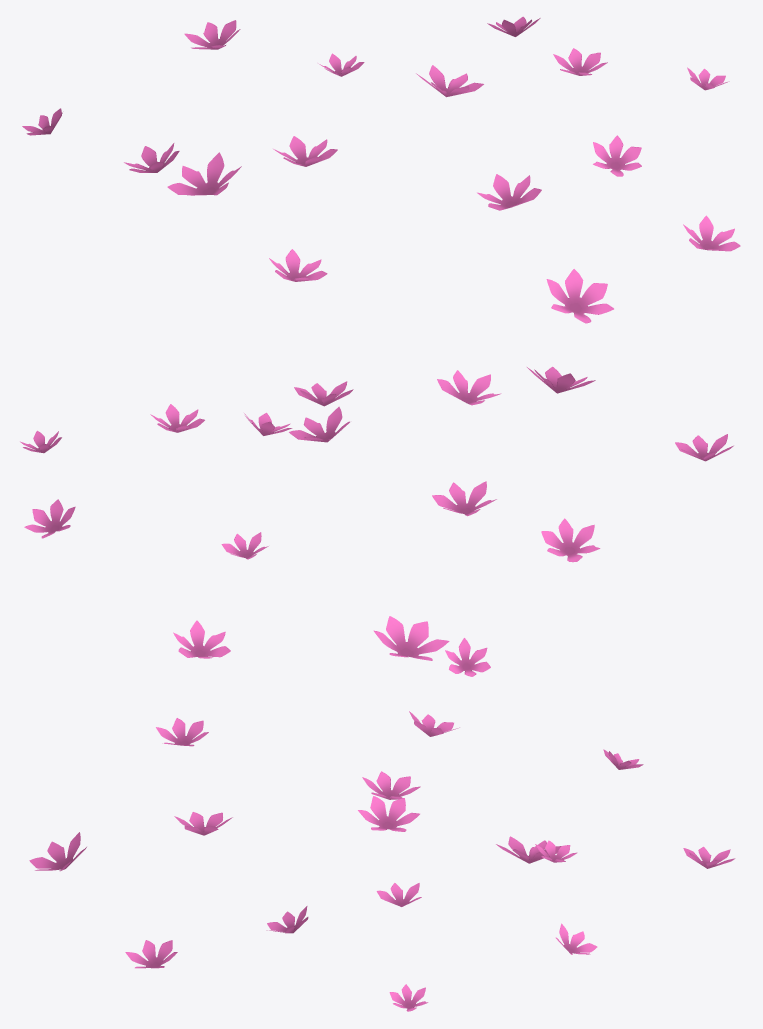
3 views of the same model, one above another, from view 1: azimuth 30°, elevation 25°; view 2: azimuth 150°, elevation 25°; view 3: azimuth 270°, elevation 25° (orthographic). The views are drawn at different scales.
Visible parts, largest first — view 1: submesh_0; view 2: submesh_0; view 3: submesh_0.
Part boxes in pixels (x1,y1,x2,y2): submesh_0: (22,16,740,323); submesh_0: (20,366,733,676); submesh_0: (29,711,735,1011).
Bounding box in the file's own units: 1.45 × 0.3355 × 1.7.
Materials: 1 (1 with a texture image).
